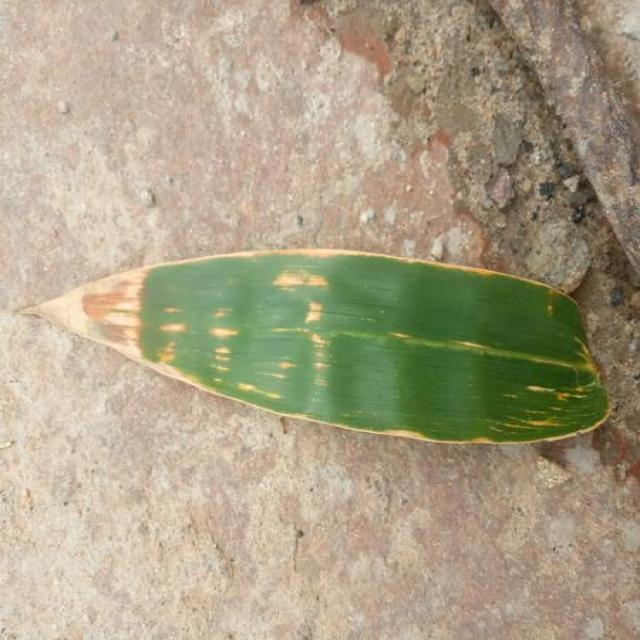Bamboo: (22, 251, 610, 443)
defectedBamboo: (23, 250, 388, 428)
